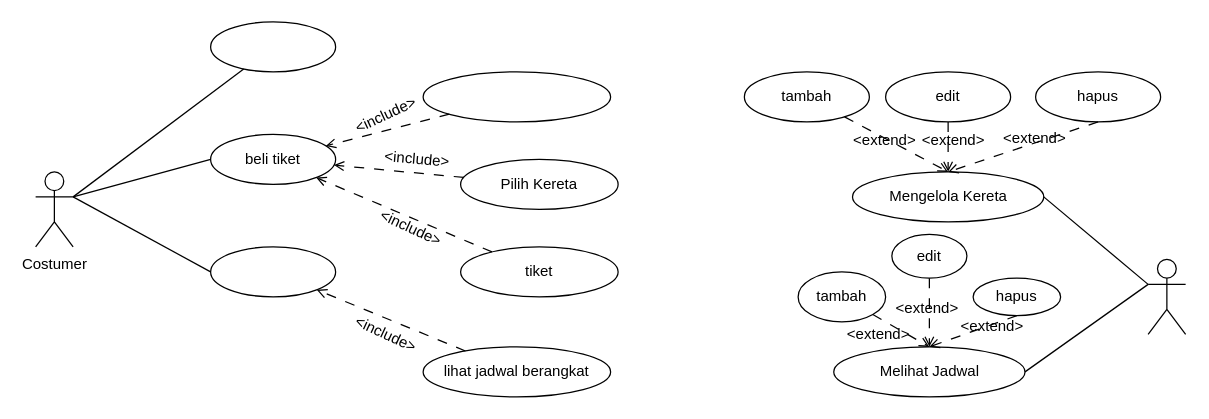
Some shapes in this 1209 by 419 pixel diagram are drawn without their labels. The centre of each missing label's shape, as x and y in pixels:
Admin: point 1166,296
login: point 272,46
pilih tanggal berangkat: point 516,96
view scedule: point 272,271
